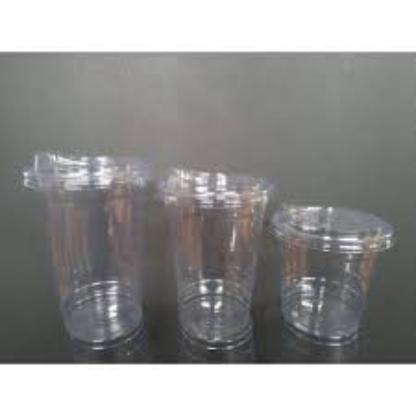Plastic Cup: (21, 150, 155, 344), (154, 166, 278, 350), (268, 202, 392, 348)
